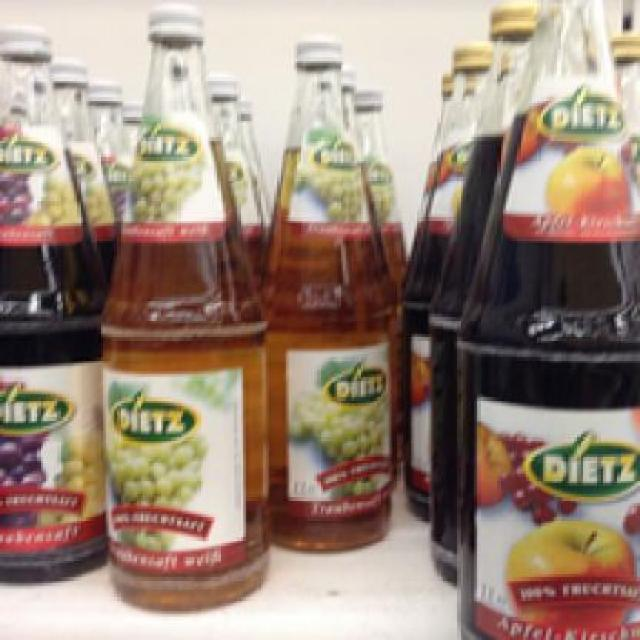Juice: (447, 0, 638, 635), (96, 2, 270, 608), (254, 34, 392, 557), (0, 20, 103, 583)
